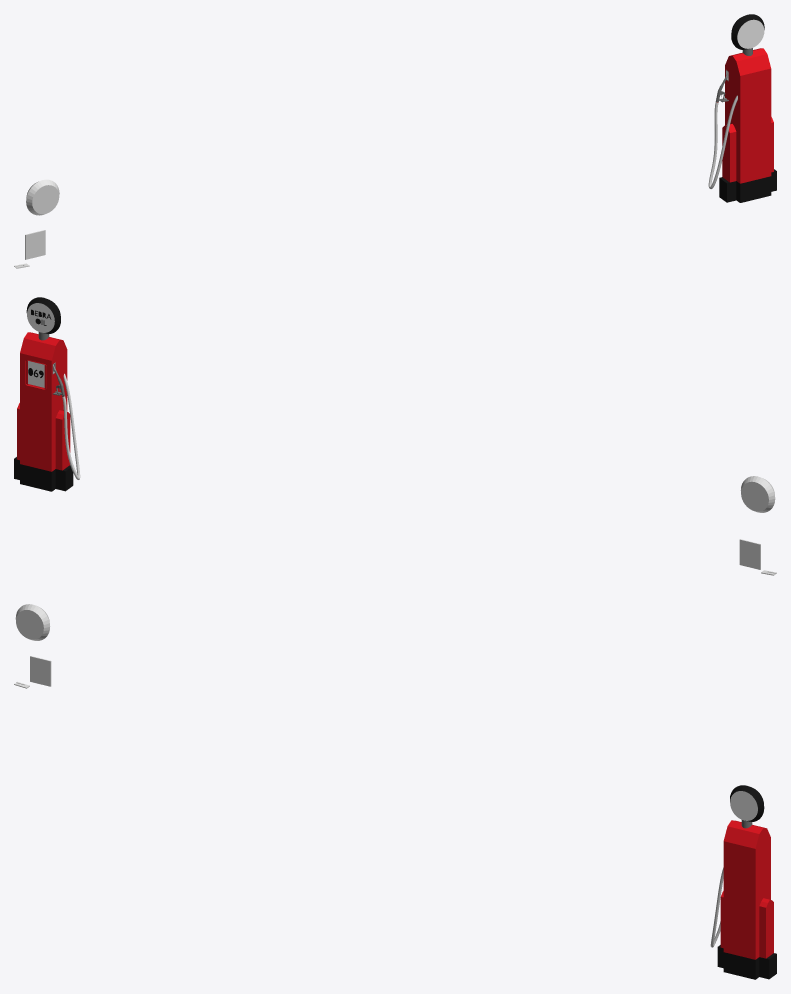
The model's file is Gas_station_upd.fbx.
3 views of the same model, one above another, from view 1: azimuth 30°, elevation 25°; view 2: azimuth 150°, elevation 25°; view 3: azimuth 330°, elevation 25° (orthographic). The views are drawn at different scales.
Parts seen in each view (by area): view 1: Gasoline_pistol, Circle.002, Plane.001; view 2: Gasoline_pistol, Circle.002, Plane.001; view 3: Gasoline_pistol, Circle.002.
Boxes of the visible parts, bbox=[...] form: Gasoline_pistol: bbox=[708, 14, 776, 202]; Circle.002: bbox=[26, 179, 59, 215]; Plane.001: bbox=[25, 230, 45, 259]; Gasoline_pistol: bbox=[14, 297, 80, 491]; Circle.002: bbox=[740, 476, 775, 512]; Plane.001: bbox=[739, 539, 760, 569]; Gasoline_pistol: bbox=[710, 785, 776, 979]; Circle.002: bbox=[15, 604, 50, 640].
Size of the model in its own units: 1152 by 266 by 56.12.
